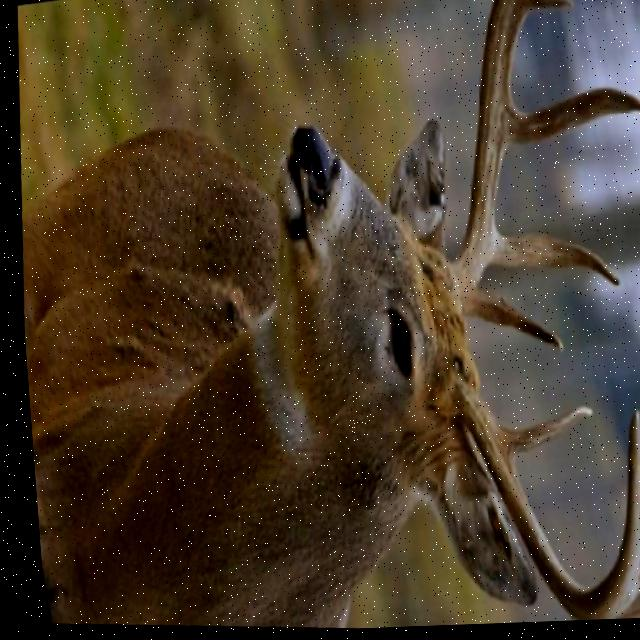E1: (528, 0, 573, 17)
L-F: (439, 374, 637, 625)
L-G1: (490, 409, 586, 474)
R-F: (438, 0, 528, 324)
R-G1: (460, 292, 558, 357)
R-G2: (479, 226, 617, 293)
R-G3: (502, 91, 640, 157)
